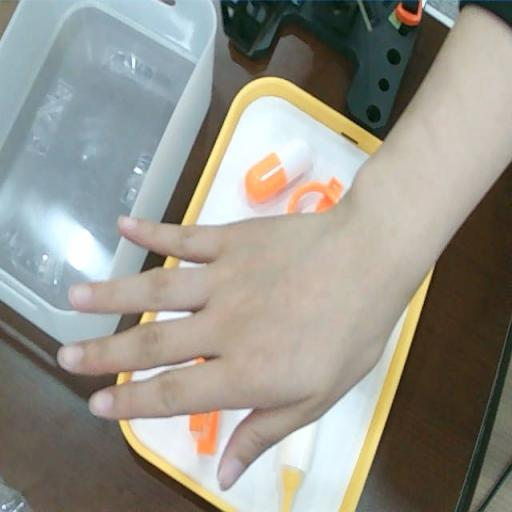hospital: (58, 198, 390, 492)
